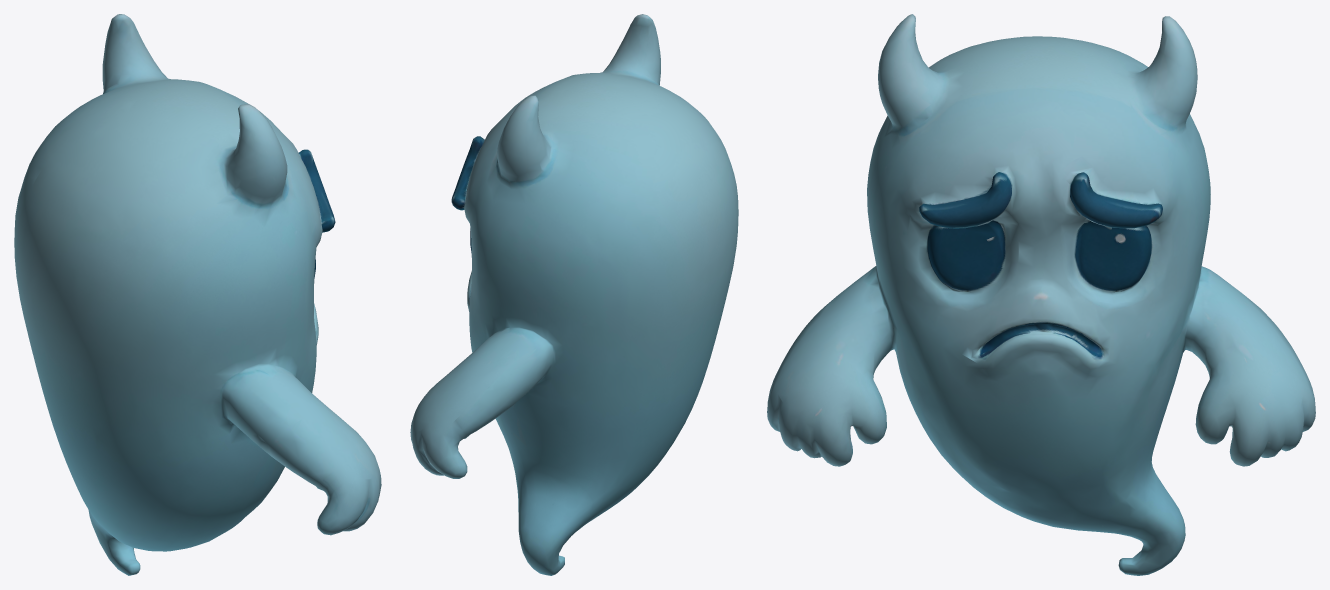
3 views of the same model, side by side, from view 1: azimuth 30°, elevation 25°; view 2: azimuth 150°, elevation 25°; view 3: azimuth 270°, elevation 25° (orthographic). The views are drawn at different scales.
Parts seen in each view (by area): view 1: tripo_node_5aa6f09c-0fa7-4a56-b94c-b0ad8ef71968; view 2: tripo_node_5aa6f09c-0fa7-4a56-b94c-b0ad8ef71968; view 3: tripo_node_5aa6f09c-0fa7-4a56-b94c-b0ad8ef71968.
Part boxes in pixels (left/top/right/bottom): tripo_node_5aa6f09c-0fa7-4a56-b94c-b0ad8ef71968: left=14, top=14, right=381, bottom=575; tripo_node_5aa6f09c-0fa7-4a56-b94c-b0ad8ef71968: left=410, top=14, right=738, bottom=575; tripo_node_5aa6f09c-0fa7-4a56-b94c-b0ad8ef71968: left=767, top=14, right=1315, bottom=575.
Bounding box in the file's own units: 50.41 × 99.99 × 88.44.
